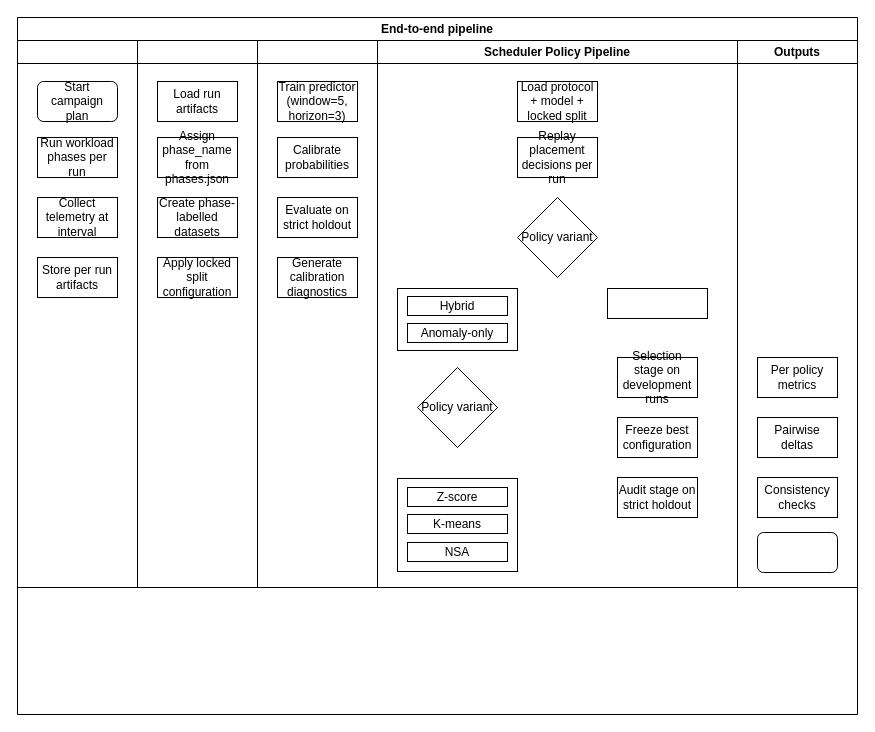
The diagram is 875 pixels wide and 732 high, and some of its shapes have lost their labels. Here are the shapes that lost their labels. From the top down, the box of each, then its label:
(16, 40, 138, 588): Telemetry Data Generation
(136, 40, 258, 588): Dataset Construction
(256, 40, 378, 588): Predictor Pipeline
(606, 288, 708, 318): Prediction-only
(756, 532, 838, 572): End of campaign
